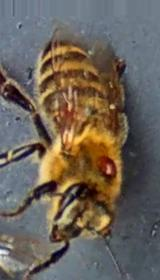varroa_mite: (90, 148, 129, 182)
